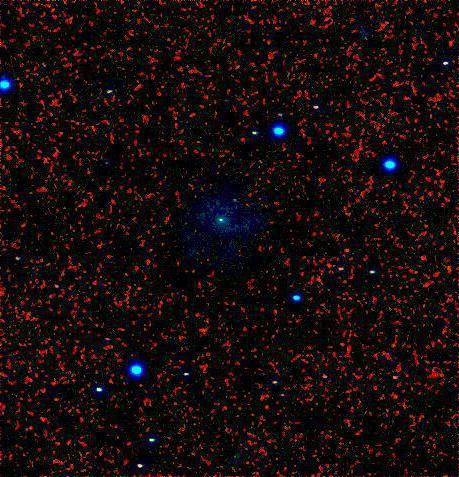star: (220, 186, 250, 216)
